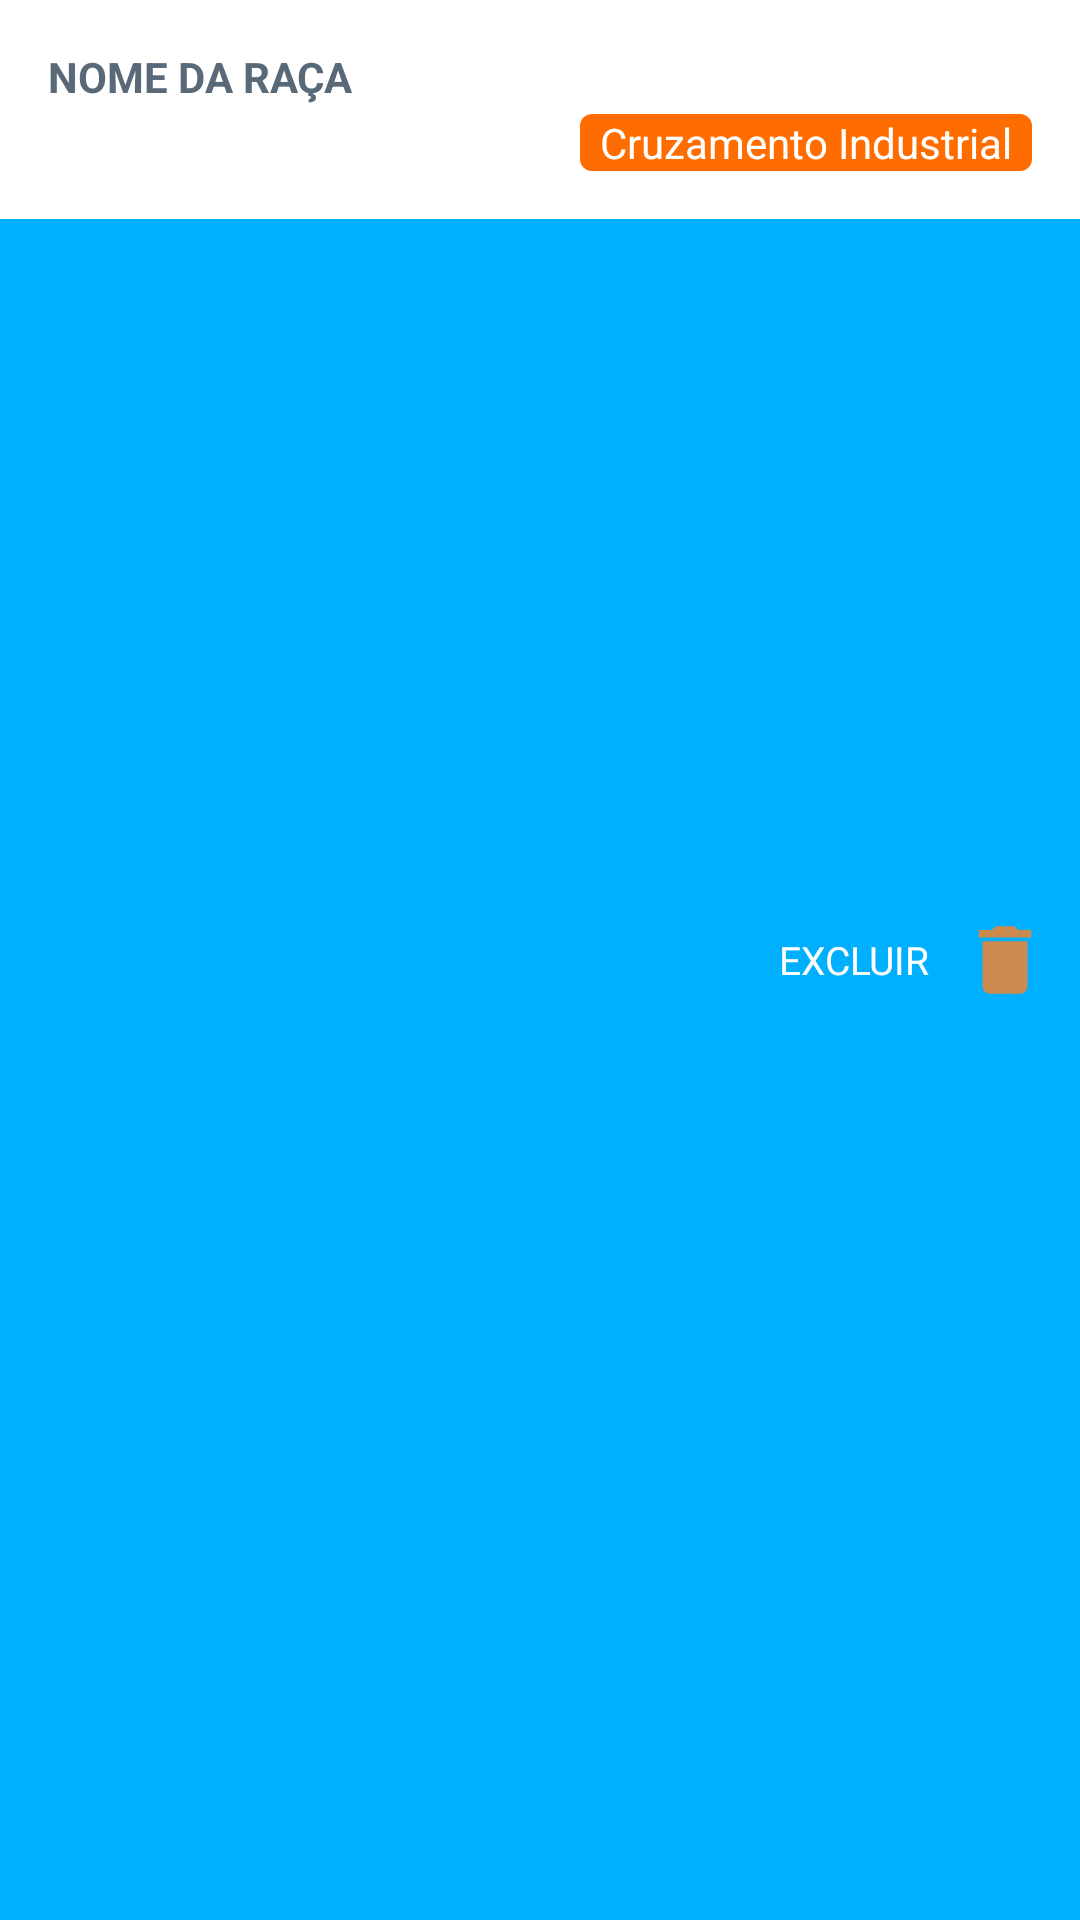

Screen size 1080×1920. Icon name, then its box in pixels as (x1, y1, x2, y2):
delete: (978, 926, 1032, 994)
